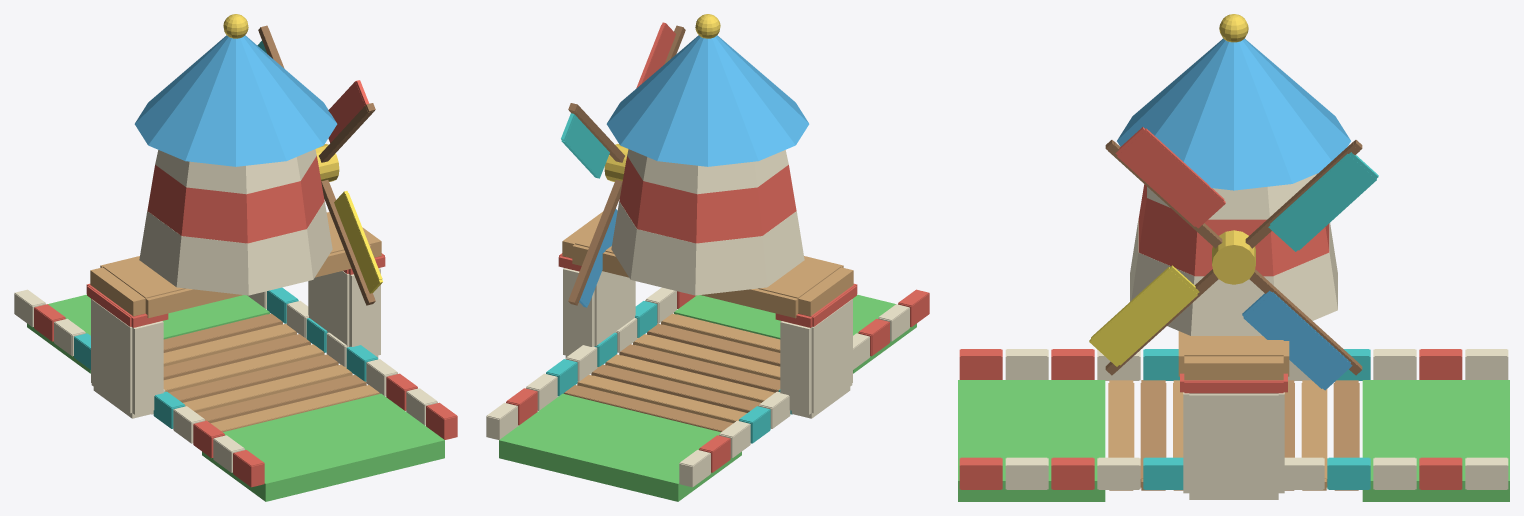
Rendered from carnival_windmill_6x12.glb.
3 renders of one model, left to right at view 1: azimuth 30°, elevation 25°; view 2: azimuth 150°, elevation 25°; view 3: azimuth 270°, elevation 25°, orthographic. The views are drawn at different scales.
Visible parts, largest first — view 1: Mesh_Windmill_Tower, Mesh_Boardwalk, Mesh_Floor_In.001, Mesh_Wall_L.008, Mesh_Wall_R.008, Mesh_Floor_Out.001; view 2: Mesh_Windmill_Tower, Mesh_Boardwalk, Mesh_Floor_Out.001, Mesh_Wall_L.008, Mesh_Wall_R.008, Mesh_Floor_In.001; view 3: Mesh_Windmill_Tower, Mesh_Wall_R.008, Mesh_Floor_In.001, Mesh_Floor_Out.001, Mesh_Wall_L.008, Mesh_Boardwalk.
Boxes of the visible parts, <box> form: Mesh_Windmill_Tower: <box>86,14,385,418</box>; Mesh_Boardwalk: <box>163,313,380,431</box>; Mesh_Floor_In.001: <box>202,393,444,501</box>; Mesh_Wall_L.008: <box>14,289,264,487</box>; Mesh_Wall_R.008: <box>247,287,457,439</box>; Mesh_Floor_Out.001: <box>27,294,269,373</box>; Mesh_Windmill_Tower: <box>558,14,857,418</box>; Mesh_Boardwalk: <box>563,313,780,431</box>; Mesh_Floor_Out.001: <box>499,393,741,501</box>; Mesh_Wall_L.008: <box>679,289,929,487</box>; Mesh_Wall_R.008: <box>486,287,696,439</box>; Mesh_Floor_In.001: <box>674,294,916,373</box>; Mesh_Windmill_Tower: <box>1089,14,1378,499</box>; Mesh_Wall_R.008: <box>959,457,1508,489</box>; Mesh_Floor_In.001: <box>958,380,1105,501</box>; Mesh_Floor_Out.001: <box>1362,380,1509,501</box>; Mesh_Wall_L.008: <box>959,349,1508,380</box>; Mesh_Boardwalk: <box>1108,380,1359,490</box>.
Size of what is drawn, in the model's own units: 7.4 by 10.47 by 12.
